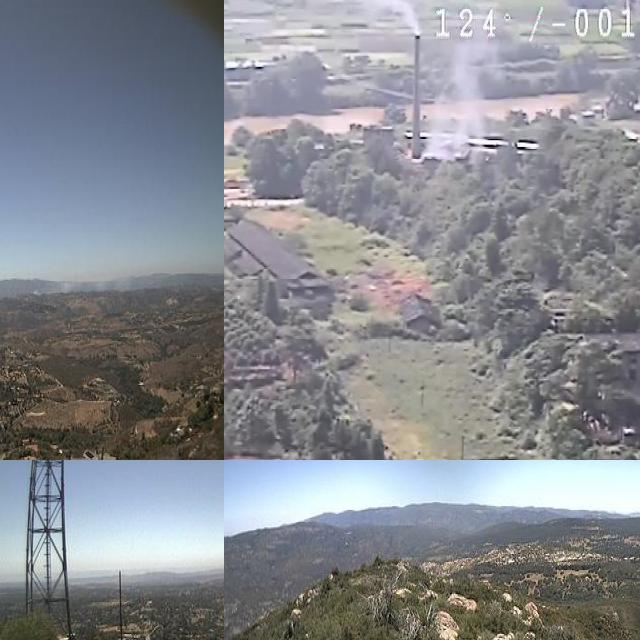smoke: (422, 0, 499, 160), (31, 269, 141, 296), (344, 0, 420, 36)
